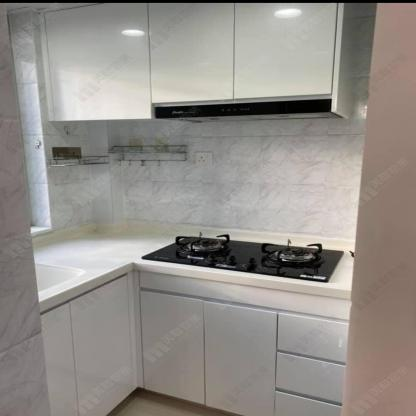Cupboard: (37, 269, 358, 415), (40, 4, 340, 123)
Exhaust Hood: (154, 101, 344, 124)
Sink: (36, 265, 83, 291)
Stove: (140, 232, 346, 282)
